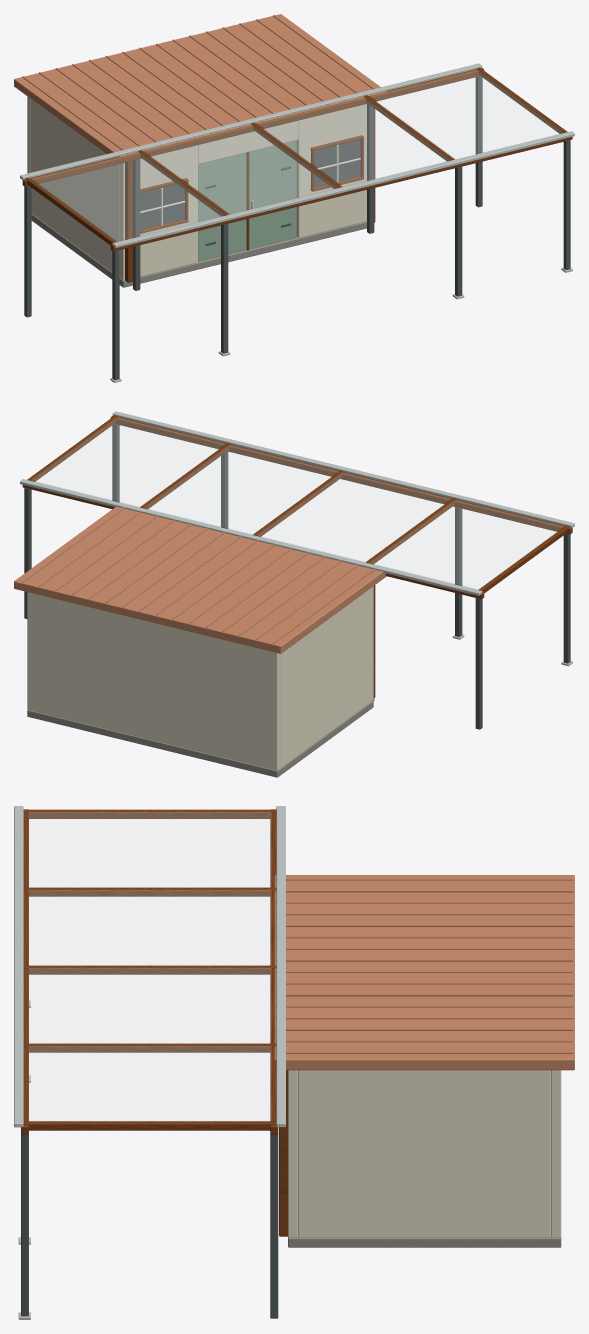
Rendered from ceramics-pottery-studio-studio-building-797603c9__29529.glb.
The picture shows the model from 3 angles, top to bottom: view 1: azimuth 30°, elevation 25°; view 2: azimuth 150°, elevation 25°; view 3: azimuth 270°, elevation 25°; orthographic projection. The views are drawn at different scales.
Parts seen in each view (by area): view 1: studio-building; view 2: studio-building; view 3: studio-building.
Part boxes in pixels (x1=…): studio-building: x1=14, y1=14, x2=574, y2=382; studio-building: x1=14, y1=411, x2=574, y2=777; studio-building: x1=14, y1=806, x2=574, y2=1319.
Size of the model in its own units: 11 by 3.18 by 8.21.
8 materials, 2 textured.
